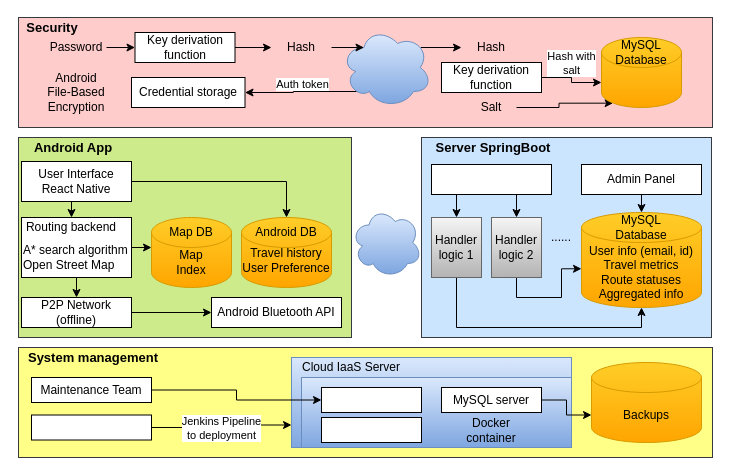
Image size: 730x475. Some labels were removed from this diagram. The centre of each missing label's shape, as x and y in pixels:
"API Gateway" belongs at (x=491, y=179).
"Development Team" belongs at (x=91, y=427).
"Internet RESTFul API" belongs at (x=386, y=242).
"Server Monitor" belongs at (x=371, y=399).
"TLS HTTPS" belongs at (x=386, y=67).
"Tomcat server" belongs at (x=371, y=429).
